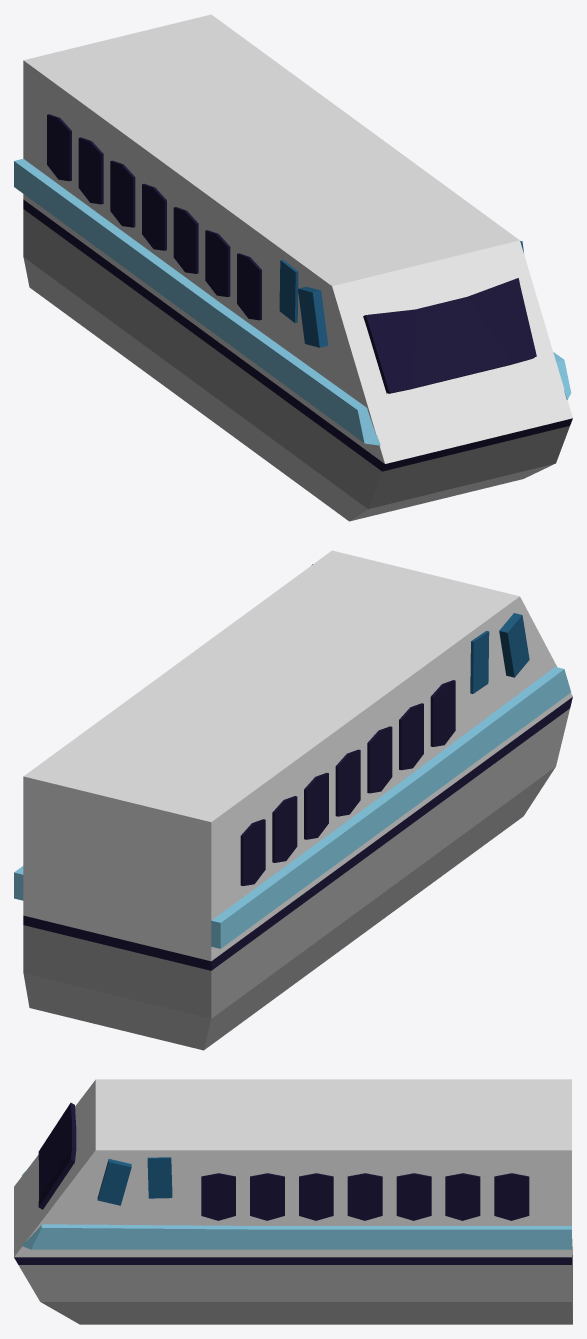
File: tail.fbx
3 renders of one model, top to bottom at view 1: azimuth 30°, elevation 25°; view 2: azimuth 150°, elevation 25°; view 3: azimuth 270°, elevation 25°, orthographic. The views are drawn at different scales.
Visible parts, largest first — view 1: head; view 2: head; view 3: head.
Boxes of the visible parts, x1,y1,x2,y2 form: head: (14, 14, 572, 521); head: (14, 550, 572, 1050); head: (14, 1079, 572, 1324).
Size of the model in its own units: 223 by 233 by 668.
